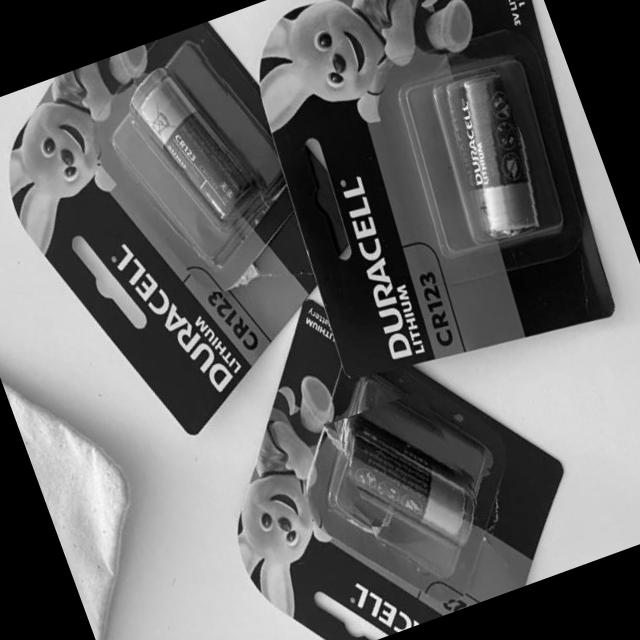Hazard: (333, 384, 488, 564), (126, 53, 270, 238), (428, 64, 553, 246)
